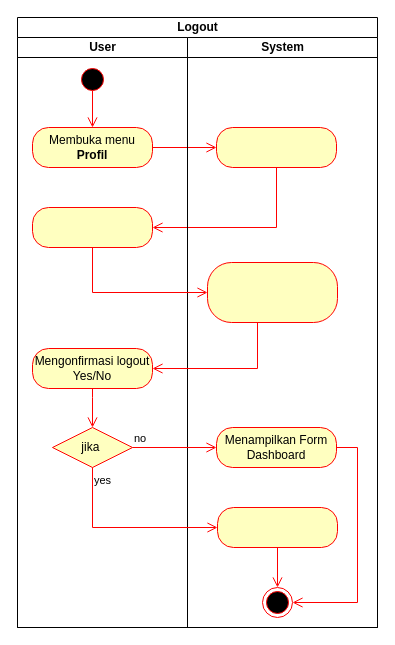
Some shapes in this 395 by 645 pixel diagram are drawn without their labels. Each missing label, with the centre of its shape:
Menampilkan halaman Login.: pixel 277 527
Menampilkan opsi Logout: pixel 276 147
Menampilkan Pesan"Apakah yakin Keluar." dan Button YES/NO: pixel 272 292
MengKlik tombol Logout .: pixel 92 227
